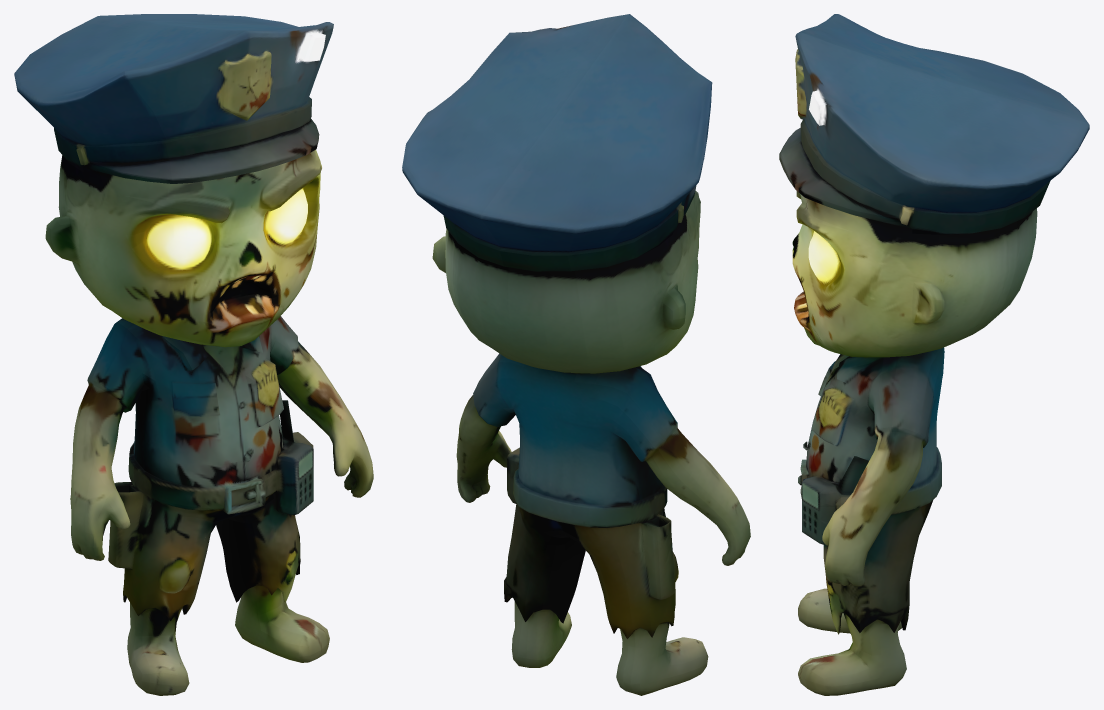
The model's file is base_basic_shaded.fbx.
3 views of the same model, side by side, from view 1: azimuth 30°, elevation 25°; view 2: azimuth 150°, elevation 25°; view 3: azimuth 270°, elevation 25° (orthographic). The views are drawn at different scales.
Visible parts, largest first — view 1: model; view 2: model; view 3: model.
Boxes of the visible parts, left/top/right/bottom form: model: left=14, top=14, right=373, bottom=695; model: left=402, top=14, right=750, bottom=695; model: left=779, top=14, right=1089, bottom=695.
Bounding box in the file's own units: 89.06 × 190 × 85.72.
